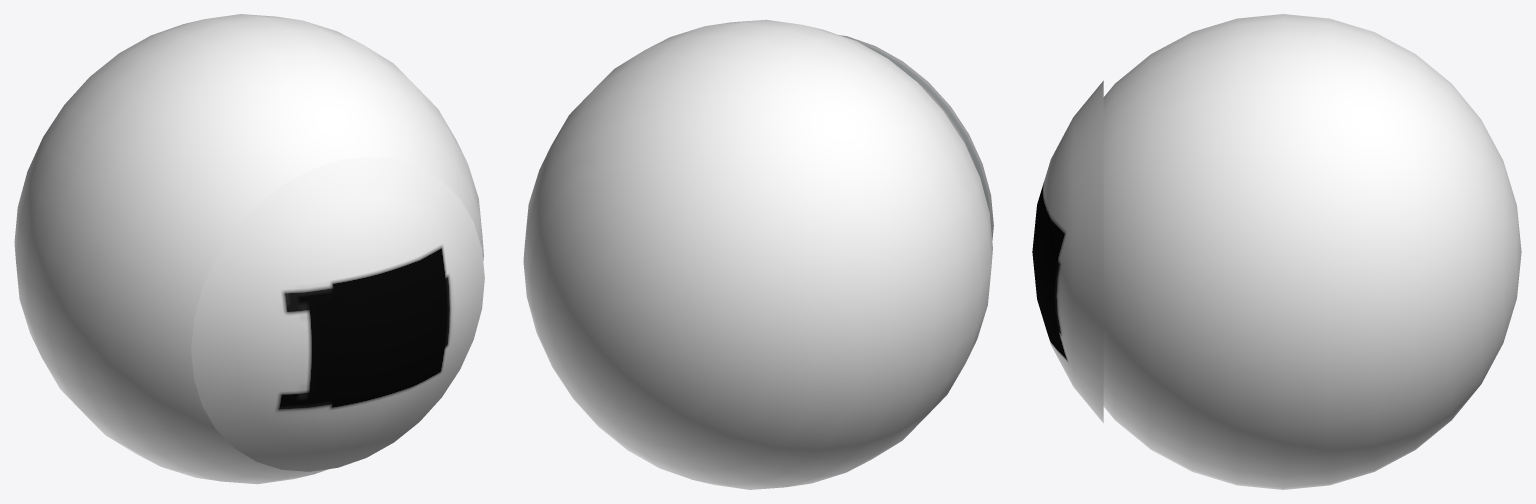
File: ball_10.fbx
The picture shows the model from 3 angles, left to right: view 1: azimuth 30°, elevation 25°; view 2: azimuth 150°, elevation 25°; view 3: azimuth 270°, elevation 25°; orthographic projection.
Visible parts, largest first — view 1: ball_10, ball_number_alpha10; view 2: ball_10, ball_number_alpha10, ball_01_alpha; view 3: ball_10, ball_number_alpha10.
Boxes of the visible parts, x1,y1,x2,y2 form: ball_10: [14, 14, 483, 484]; ball_number_alpha10: [191, 156, 484, 471]; ball_10: [523, 19, 992, 489]; ball_number_alpha10: [839, 35, 993, 240]; ball_01_alpha: [863, 44, 989, 213]; ball_10: [1103, 14, 1521, 489]; ball_number_alpha10: [1032, 80, 1103, 423].
Size of the model in its own units: 149 by 149 by 153.
Materials: 3 (3 with a texture image).
